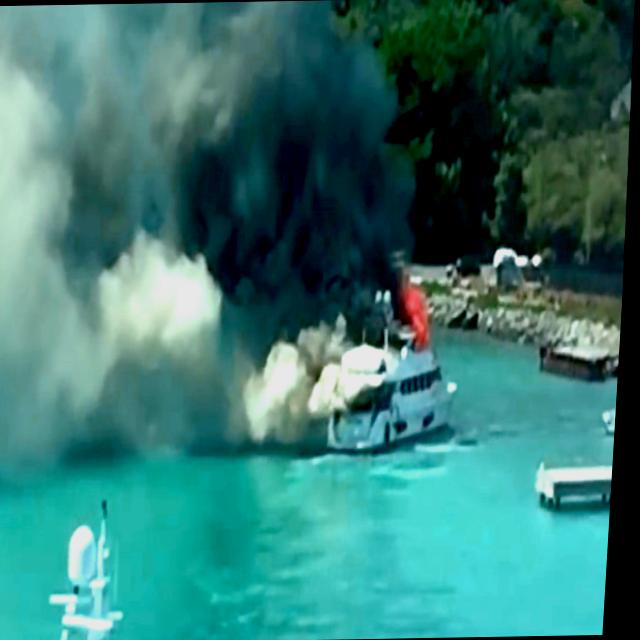smoke: (82, 59, 333, 452)
